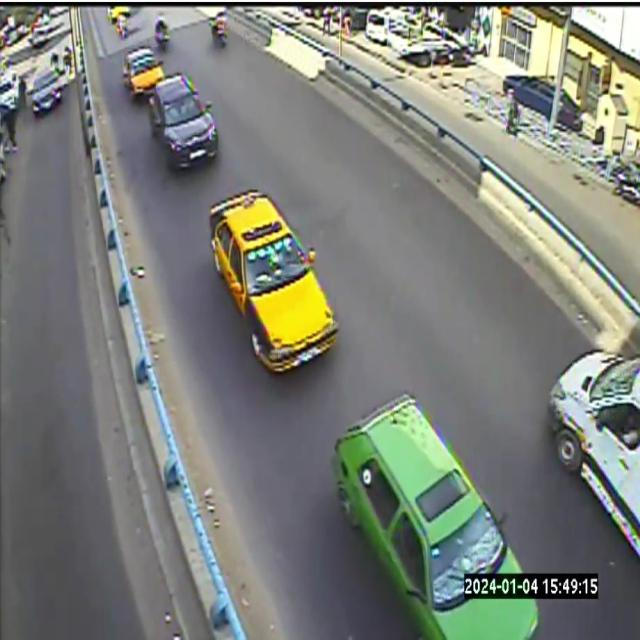car: (332, 394, 542, 639), (209, 190, 337, 371), (547, 351, 639, 555), (149, 74, 218, 166), (123, 47, 163, 97)
